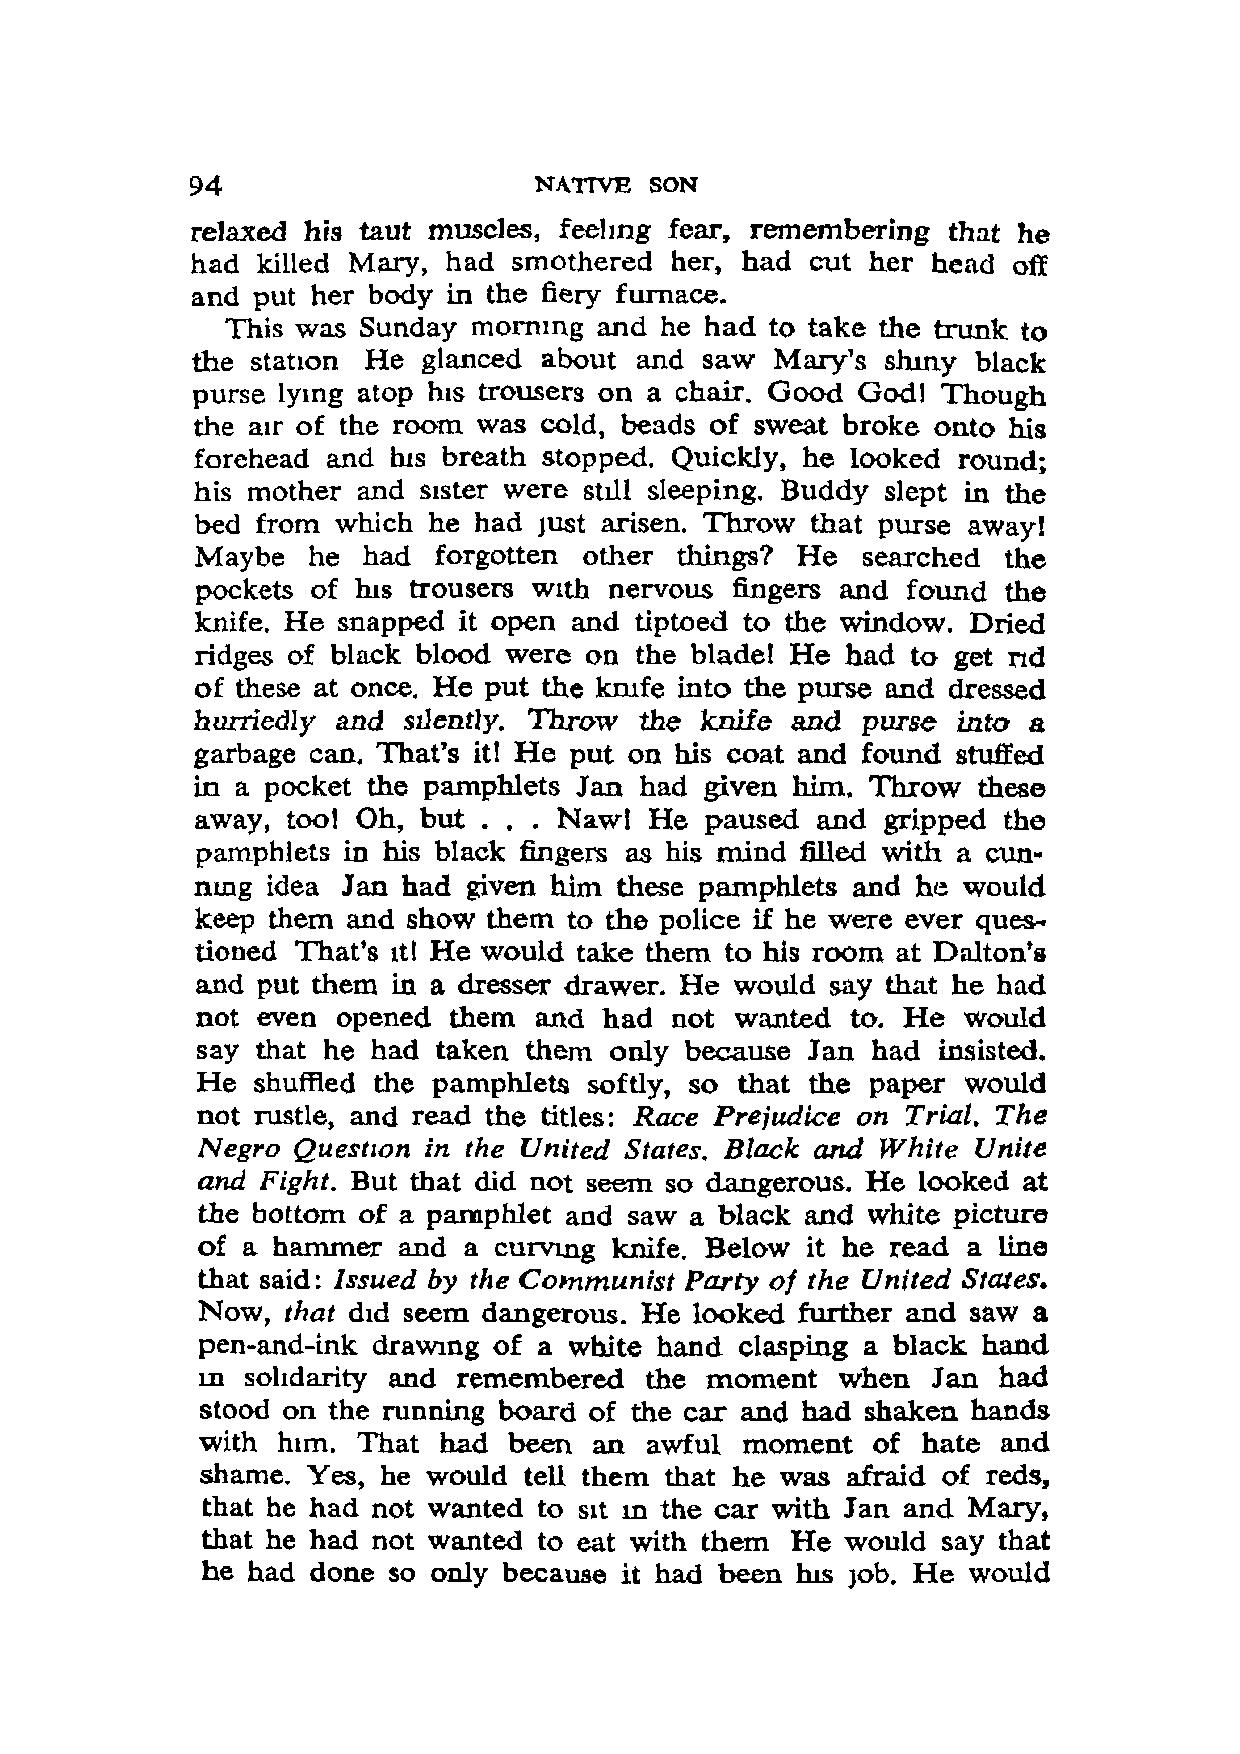content: (185, 219, 1049, 1590)
content_chapter: (529, 170, 701, 197)
content_pagenumber: (187, 168, 223, 199)
